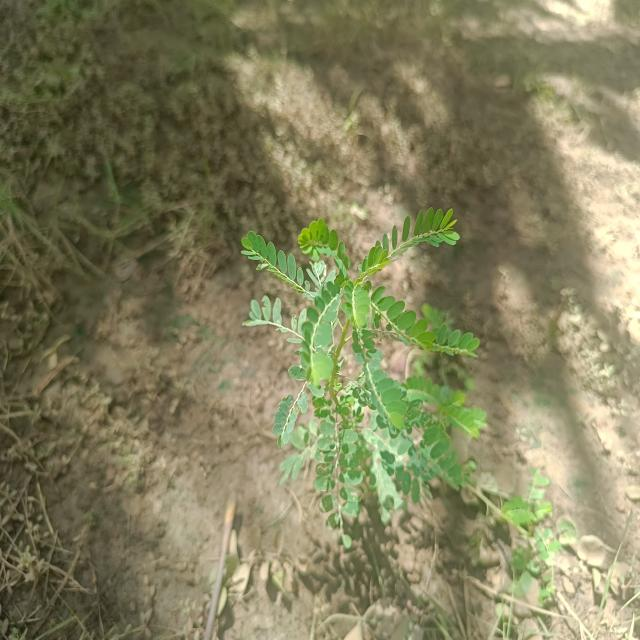weed: (222, 206, 493, 534)
